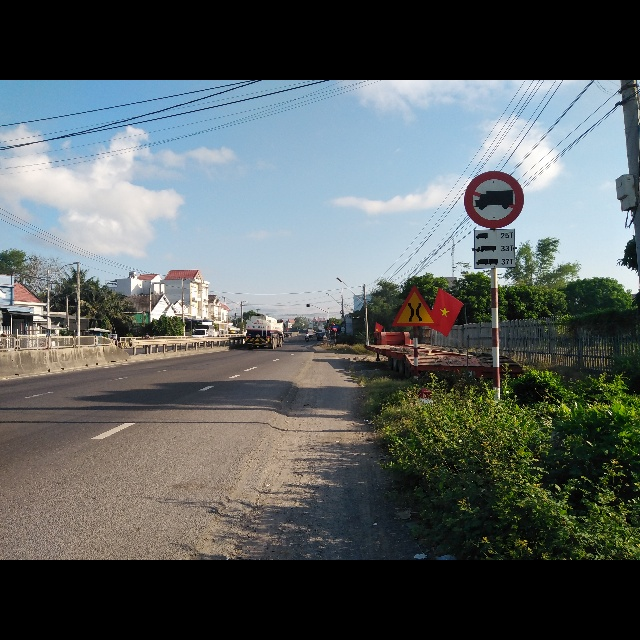Cấm xe tải: (463, 170, 527, 229)
Cầu hẹp: (390, 286, 436, 328)
